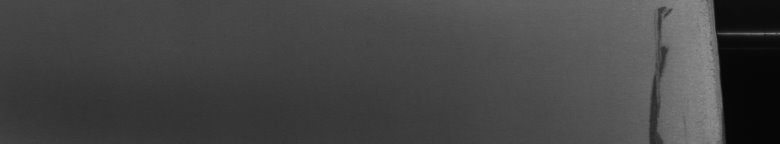hd: (641, 4, 686, 136)
